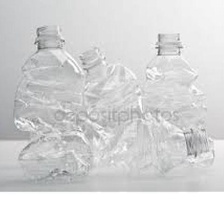bottle: (12, 113, 212, 185), (8, 20, 92, 186), (139, 27, 217, 174), (75, 42, 152, 173)
